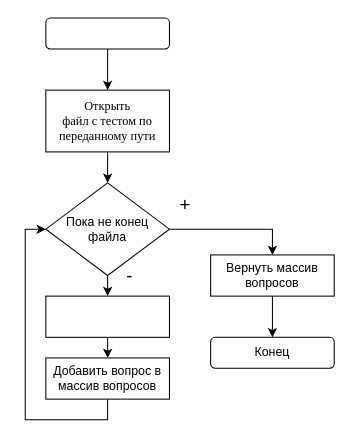
Image size: 352x446. Some labels were removed from this diagram. Here are the shapes that lost their labels. From the top down, the centre of each, then its label:
At pixel 107 33: "Начало".
At pixel 107 316: "Построчно считать информацию о вопросе".
